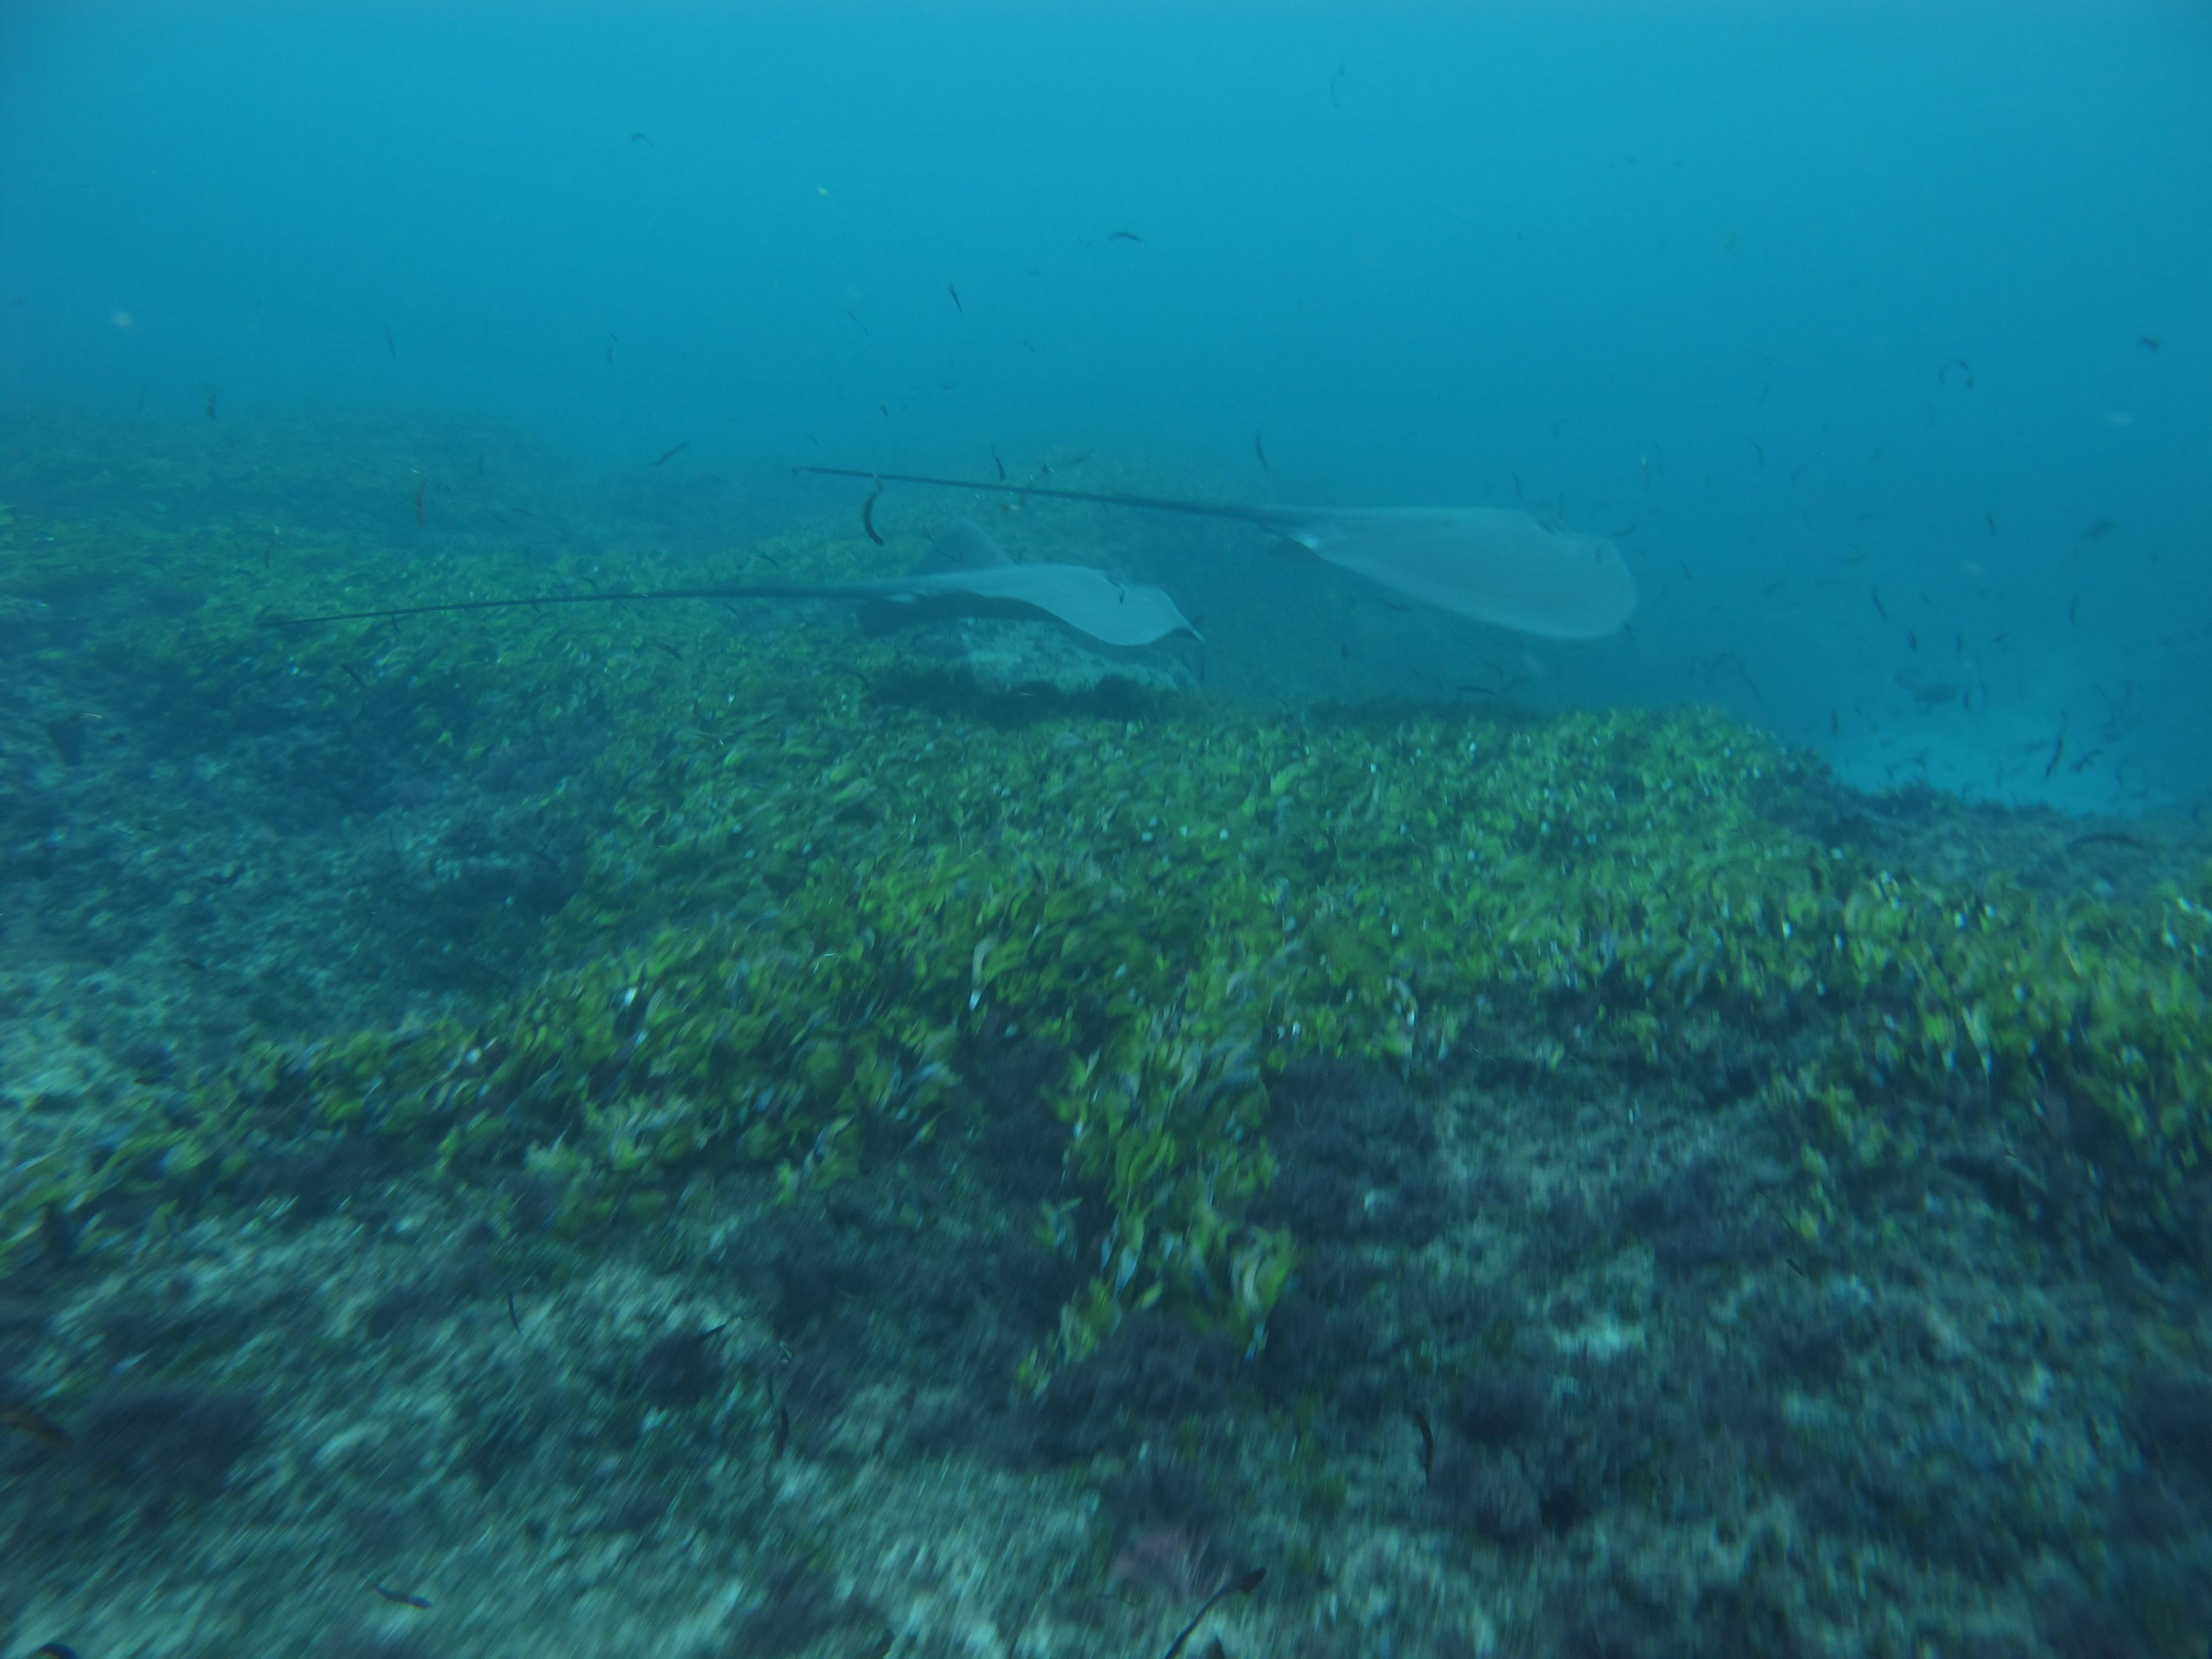Fish: (805, 406, 1691, 647), (209, 512, 1211, 706)
